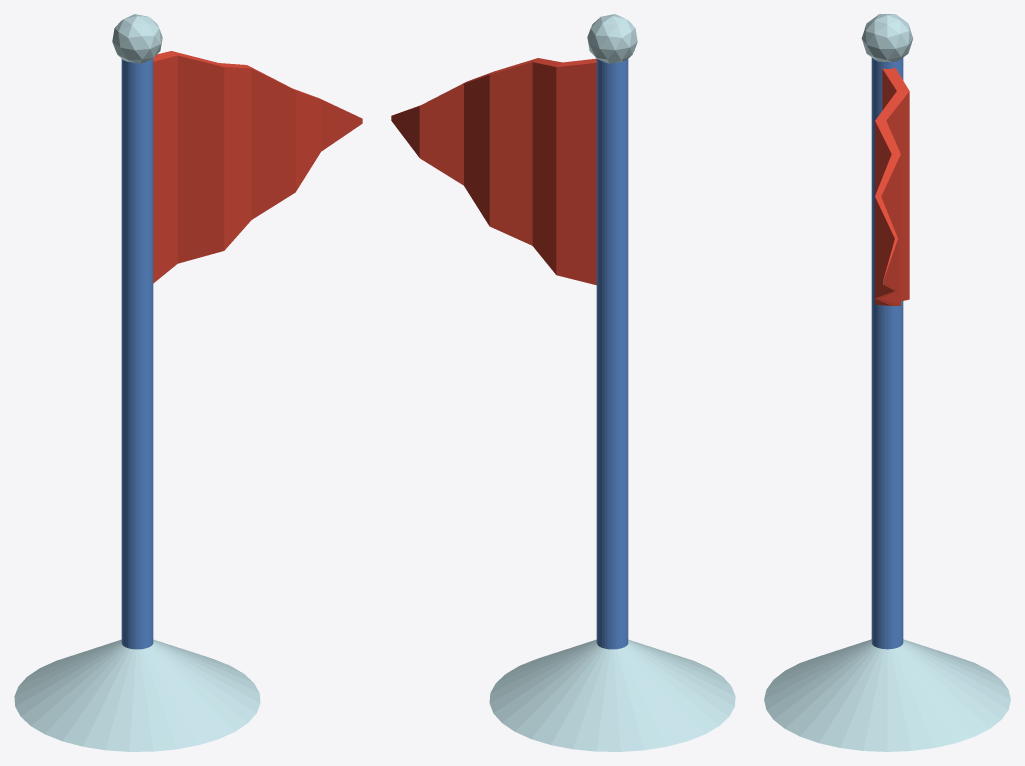
File: flag.fbx
3 views of the same model, side by side, from view 1: azimuth 30°, elevation 25°; view 2: azimuth 150°, elevation 25°; view 3: azimuth 270°, elevation 25° (orthographic).
Visible parts, largest first — view 1: Cylinder; view 2: Cylinder; view 3: Cylinder.
Boxes of the visible parts, box(x1,y1,x2,y2) form: Cylinder: box(14, 14, 362, 751); Cylinder: box(391, 14, 735, 751); Cylinder: box(764, 14, 1010, 751).
Bounding box in the file's own units: 309 × 612 × 200.
